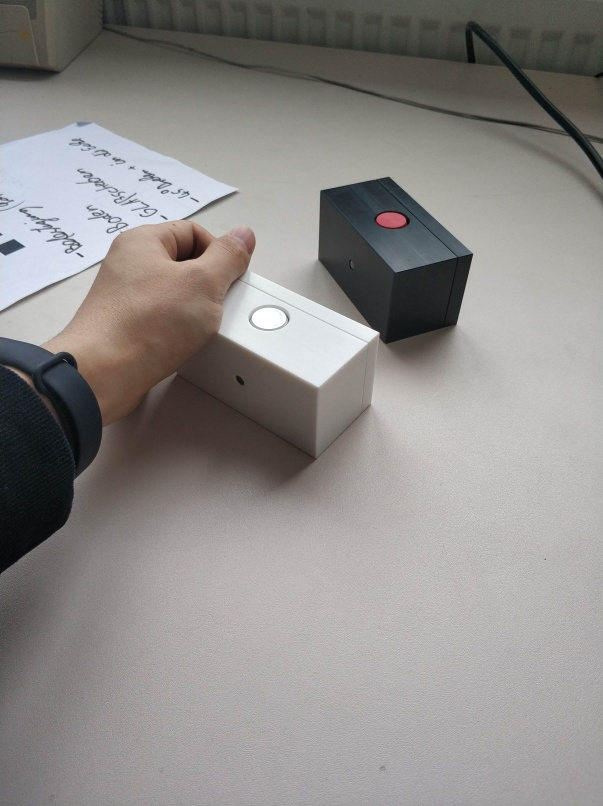black+black+red: (313, 173, 477, 346)
white+white+silver: (183, 269, 380, 465)
